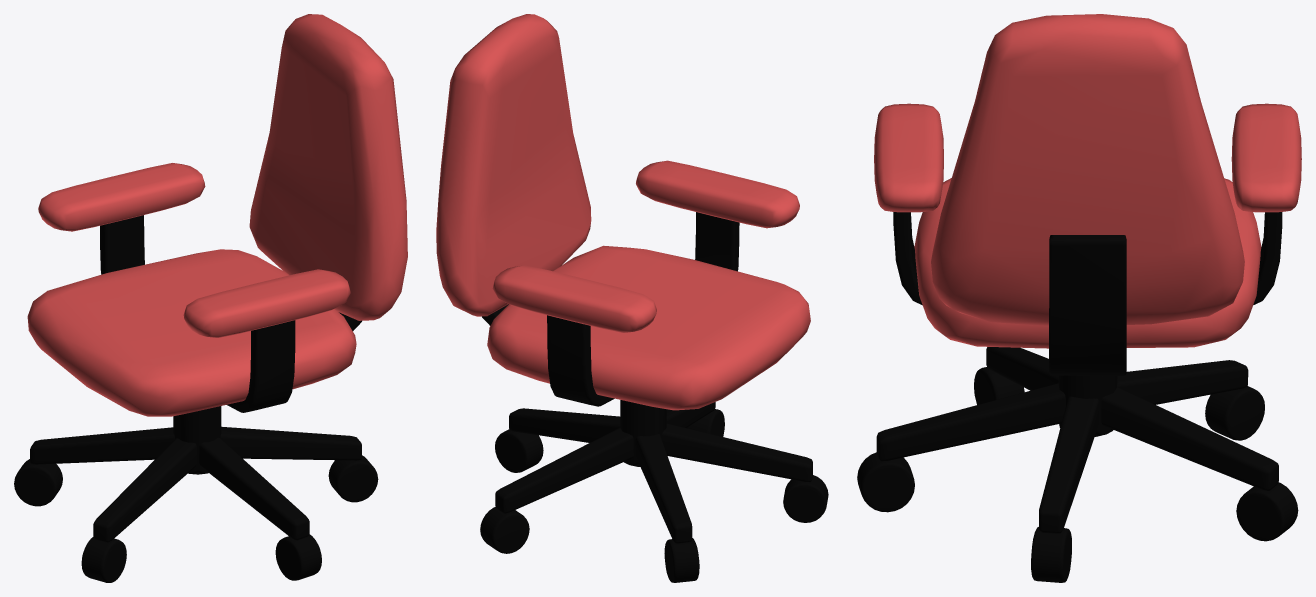
The model's file is office_chair_red.fbx.
3 renders of one model, left to right at view 1: azimuth 30°, elevation 25°; view 2: azimuth 150°, elevation 25°; view 3: azimuth 270°, elevation 25°, orthographic. The views are drawn at different scales.
Parts seen in each view (by area): view 1: office_chair_red; view 2: office_chair_red; view 3: office_chair_red.
Boxes of the visible parts, x1=… form: office_chair_red: x1=14, y1=14, x2=407, y2=582; office_chair_red: x1=436, y1=14, x2=828, y2=582; office_chair_red: x1=857, y1=14, x2=1301, y2=582.
Size of the model in its own units: 76.26 by 103 by 73.42.
2 materials, 2 textured.
